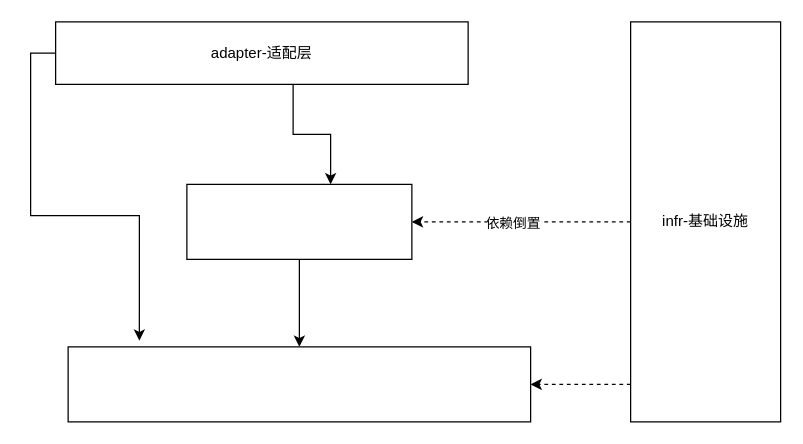
Some shapes in this 803 by 444 pixel diagram are drawn without their labels. The shapes that lost their labels are listed below. From the top down, each one's centre as x and y in pixels, then its label:
(x=299, y=221): app-应用层
(x=299, y=384): domain-领域层
